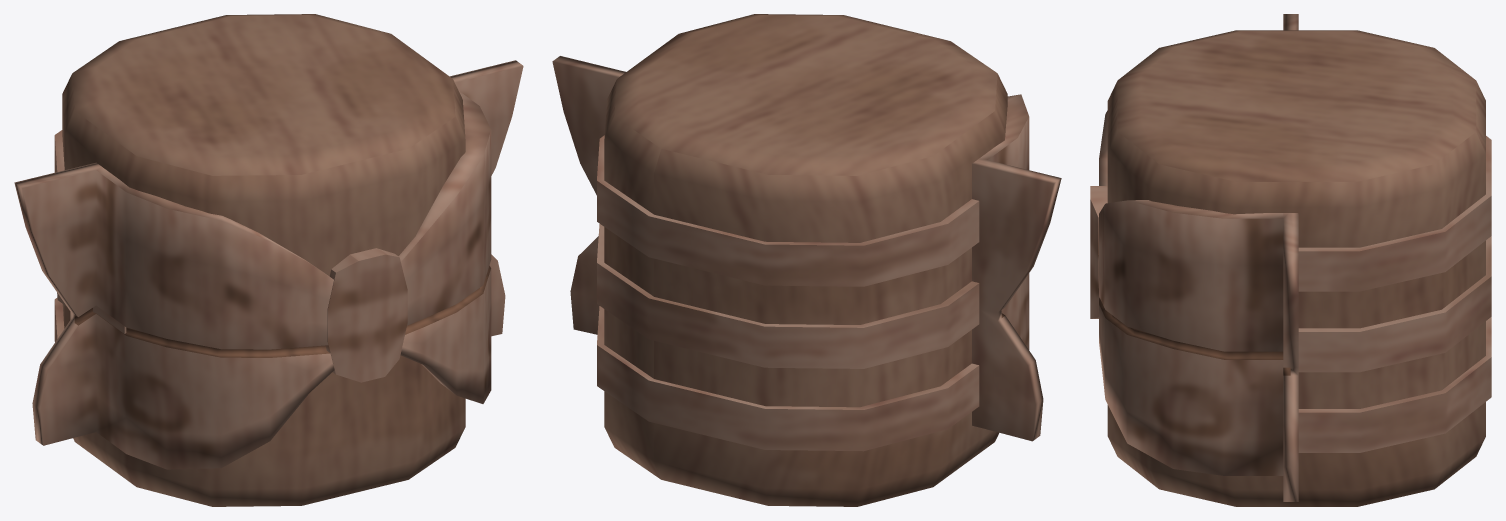
The model's file is totem_pole_moth.fbx.
3 views of the same model, side by side, from view 1: azimuth 30°, elevation 25°; view 2: azimuth 150°, elevation 25°; view 3: azimuth 270°, elevation 25° (orthographic).
Parts seen in each view (by area): view 1: totem_pole_moth; view 2: totem_pole_moth; view 3: totem_pole_moth.
Boxes of the visible parts, left/top/right/bottom form: totem_pole_moth: left=14, top=14, right=523, bottom=506; totem_pole_moth: left=552, top=14, right=1061, bottom=506; totem_pole_moth: left=1090, top=14, right=1491, bottom=506.
Size of the model in its own units: 150 by 100 by 106.
Materials: 1 (1 with a texture image).
